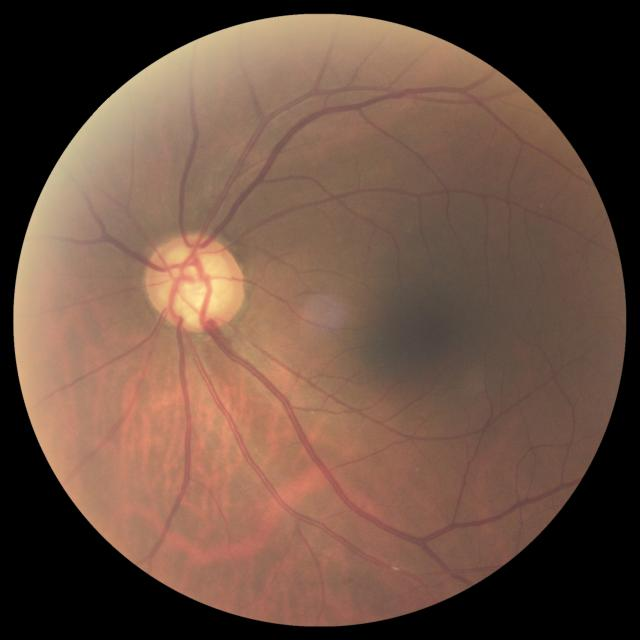OC: (154, 243, 236, 324)
OD: (144, 231, 246, 332)
